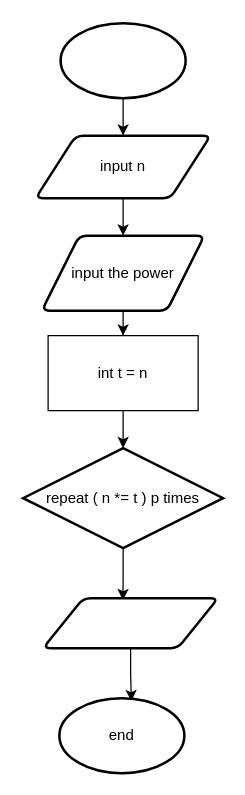
Some shapes in this 245 by 795 pixel diagram are drawn without their labels. The centre of each missing label's shape, as x and y in pixels:
"print n" belongs at point (130, 622).
"START" belongs at point (122, 60).
